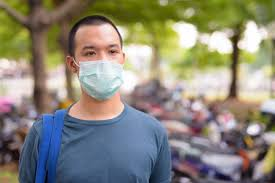with-mask: (64, 16, 134, 101)
